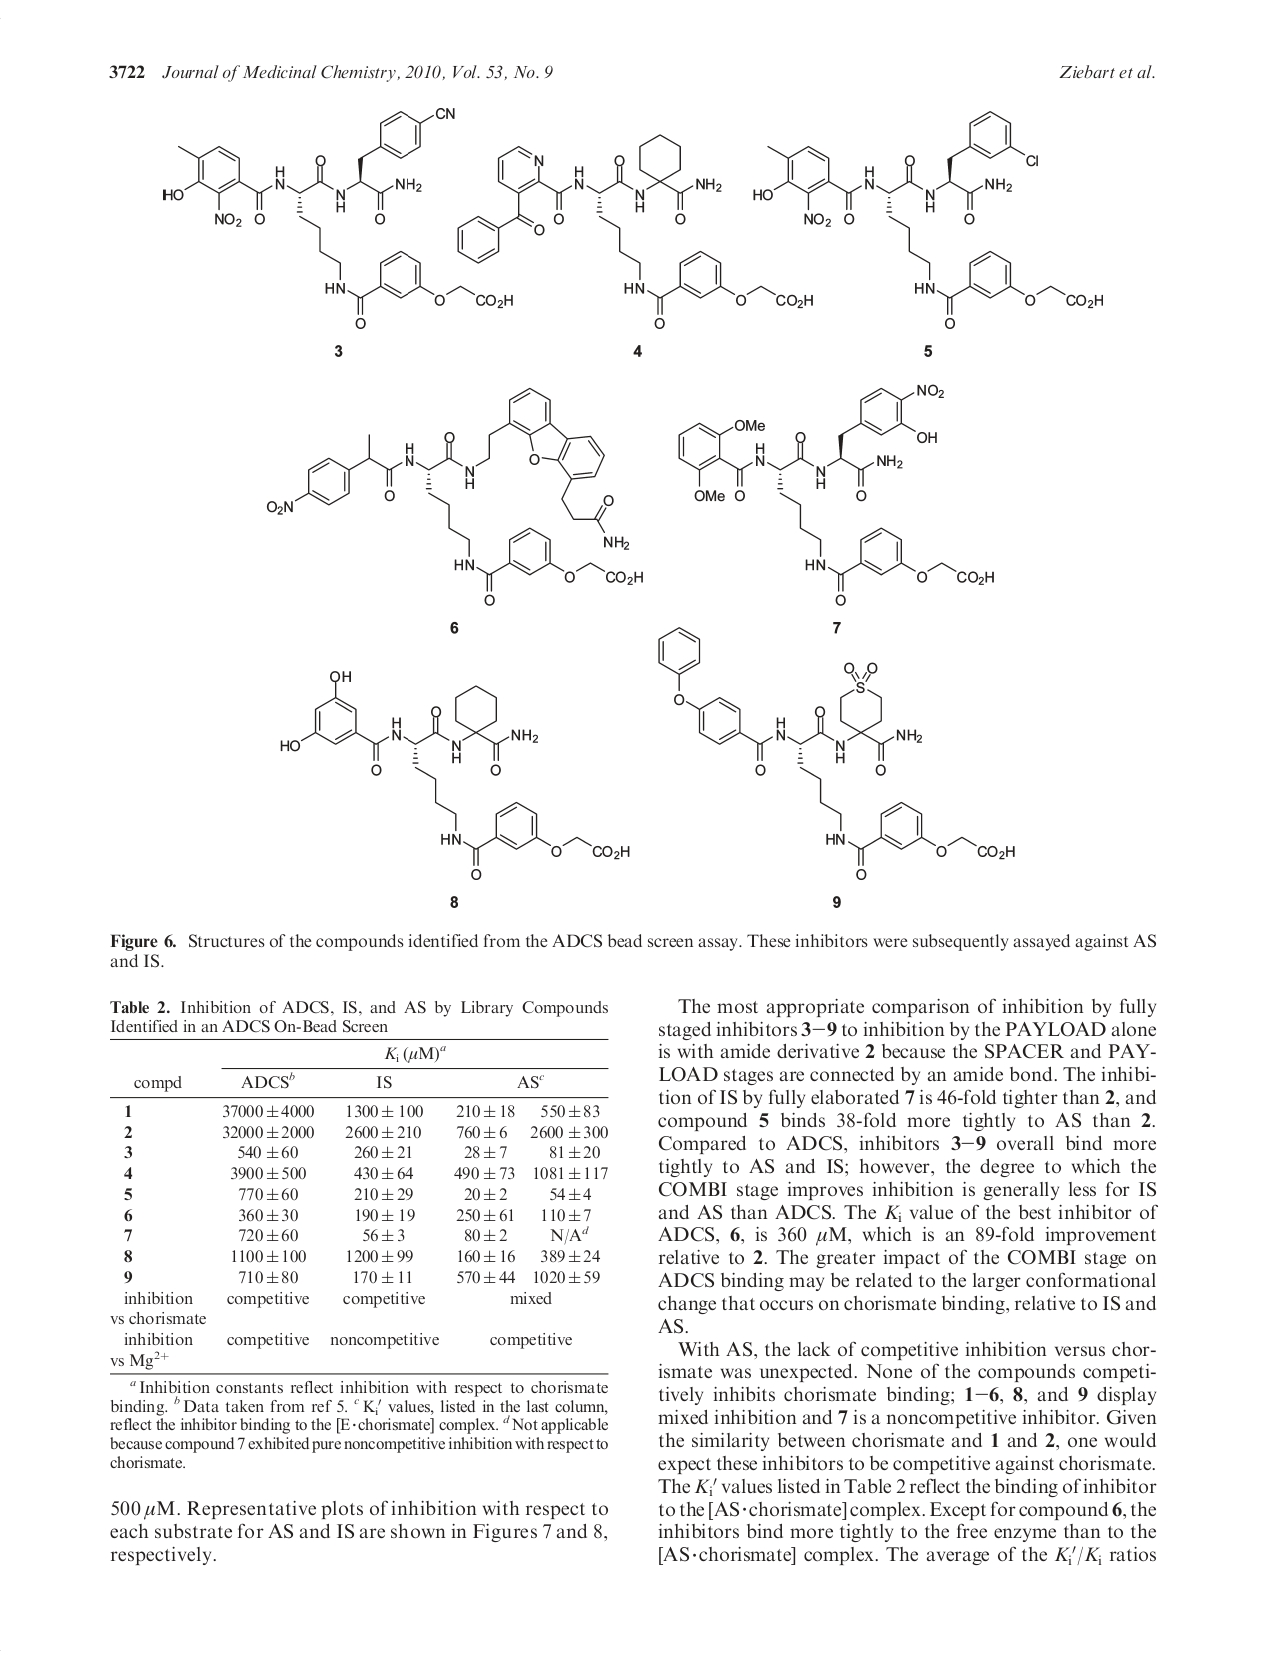exist_molecular: (648, 622, 1019, 892), (257, 380, 652, 605), (154, 96, 520, 336), (270, 660, 636, 888), (742, 106, 1109, 332), (670, 376, 1015, 614), (453, 140, 817, 338)
